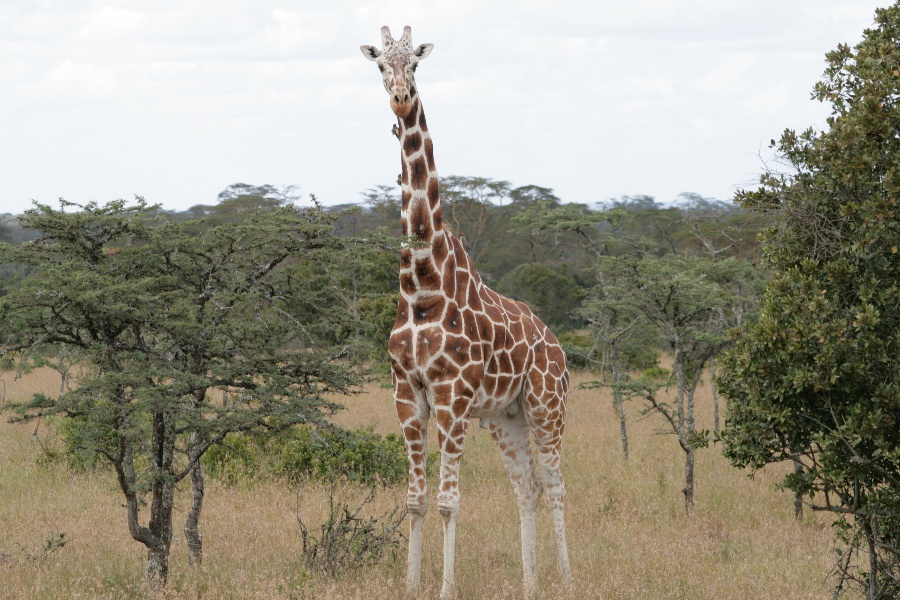giraffe: (348, 17, 589, 597)
